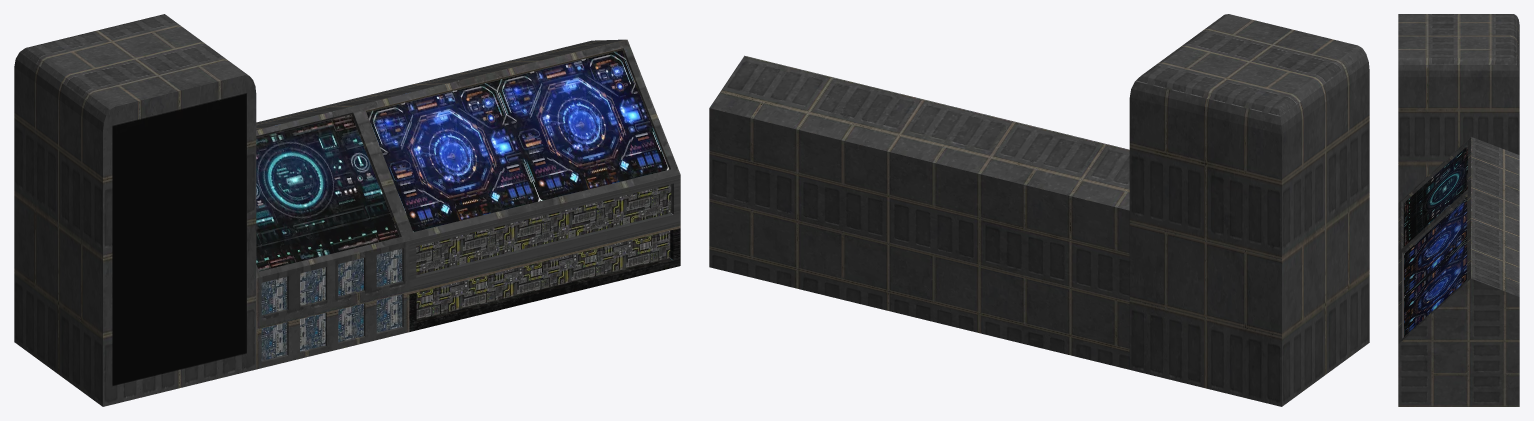
File: data-core.glb
The picture shows the model from 3 angles, left to right: view 1: azimuth 30°, elevation 25°; view 2: azimuth 150°, elevation 25°; view 3: azimuth 270°, elevation 25°; orthographic projection. The views are drawn at different scales.
Visible parts, largest first — view 1: Supercomputer by JJ.001_Computers by JJ_gameasset_Mat_1_0, Supercomputer by JJ.001_Supercomputer by JJ_gameasset_Mat_1_; view 2: Supercomputer by JJ.001_Computers by JJ_gameasset_Mat_1_0, Supercomputer by JJ.001_Supercomputer by JJ_gameasset_Mat_1_; view 3: Supercomputer by JJ.001_Computers by JJ_gameasset_Mat_1_0, Supercomputer by JJ.001_Supercomputer by JJ_gameasset_Mat_1_.
Boxes of the visible parts, x1=… form: Supercomputer by JJ.001_Computers by JJ_gameasset_Mat_1_0: x1=256, y1=39, x2=680, y2=369; Supercomputer by JJ.001_Supercomputer by JJ_gameasset_Mat_1_: x1=14, y1=14, x2=256, y2=406; Supercomputer by JJ.001_Computers by JJ_gameasset_Mat_1_0: x1=709, y1=55, x2=1129, y2=369; Supercomputer by JJ.001_Supercomputer by JJ_gameasset_Mat_1_: x1=1129, y1=14, x2=1369, y2=406; Supercomputer by JJ.001_Computers by JJ_gameasset_Mat_1_0: x1=1398, y1=137, x2=1519, y2=406; Supercomputer by JJ.001_Supercomputer by JJ_gameasset_Mat_1_: x1=1398, y1=14, x2=1519, y2=202.
Bounding box in the file's own units: 7.53 × 3.7 × 2.
Materials: 2 (2 with a texture image).
